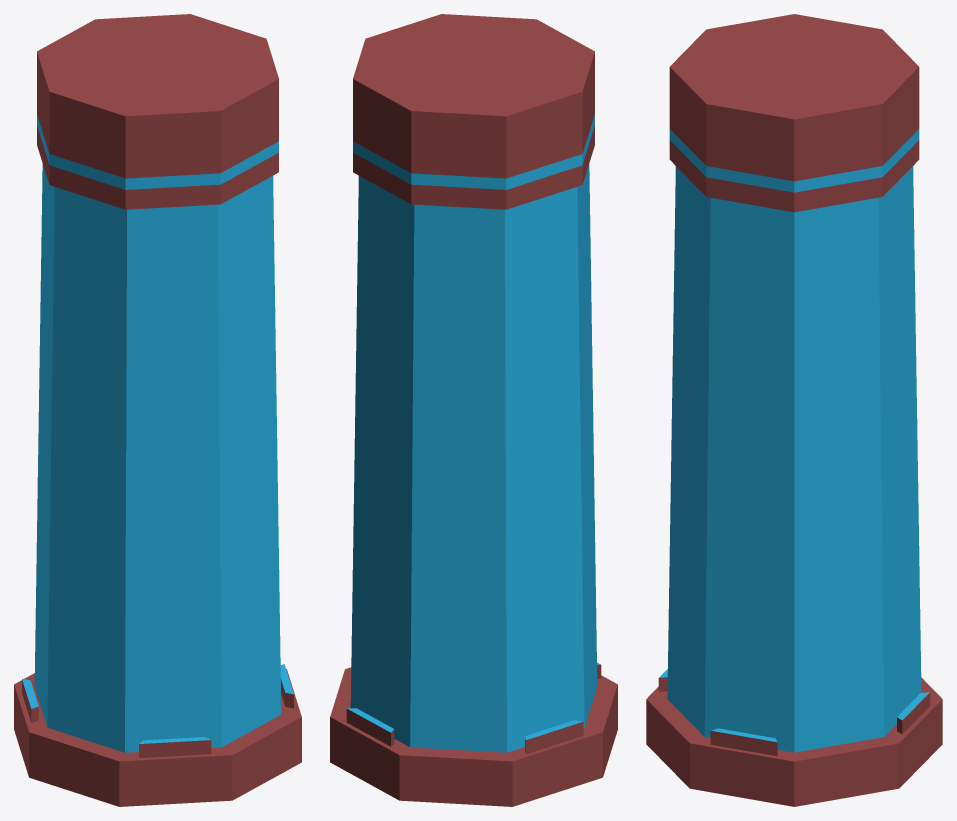
Rendered from SM_AdvertSign_01.fbx.
The picture shows the model from 3 angles, left to right: view 1: azimuth 30°, elevation 25°; view 2: azimuth 150°, elevation 25°; view 3: azimuth 270°, elevation 25°; orthographic projection.
Parts seen in each view (by area): view 1: SM_AdvertSign_01; view 2: SM_AdvertSign_01; view 3: SM_AdvertSign_01.
Part boxes in pixels (box(x1,y1,x2,y2)): SM_AdvertSign_01: box(14, 14, 301, 806); SM_AdvertSign_01: box(330, 14, 617, 806); SM_AdvertSign_01: box(646, 14, 942, 806).
Bounding box in the file's own units: 163 × 410 × 163.
